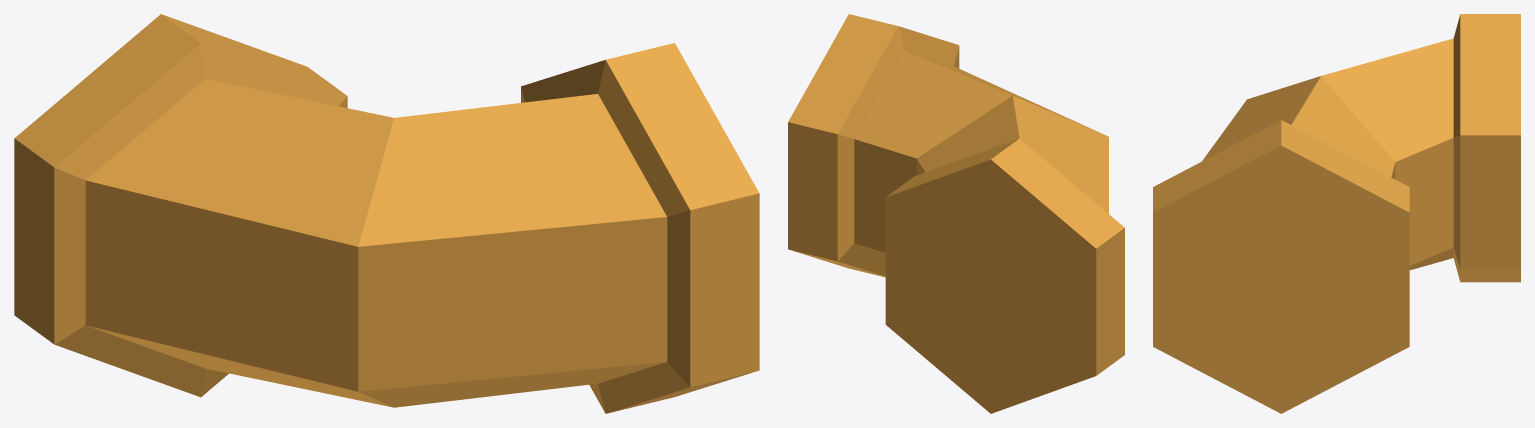
Rendered from scifi-scifi-pipe-corridor-end.glb.
The picture shows the model from 3 angles, left to right: view 1: azimuth 30°, elevation 25°; view 2: azimuth 150°, elevation 25°; view 3: azimuth 270°, elevation 25°; orthographic projection. The views are drawn at different scales.
Parts seen in each view (by area): view 1: scifi-pipe-corridor-end; view 2: scifi-pipe-corridor-end; view 3: scifi-pipe-corridor-end.
Part boxes in pixels (<box>): scifi-pipe-corridor-end: <box>14,14,759,413</box>; scifi-pipe-corridor-end: <box>788,14,1124,413</box>; scifi-pipe-corridor-end: <box>1153,14,1520,413</box>.
Size of the model in its own units: 0.653 by 0.44 by 0.5463.
